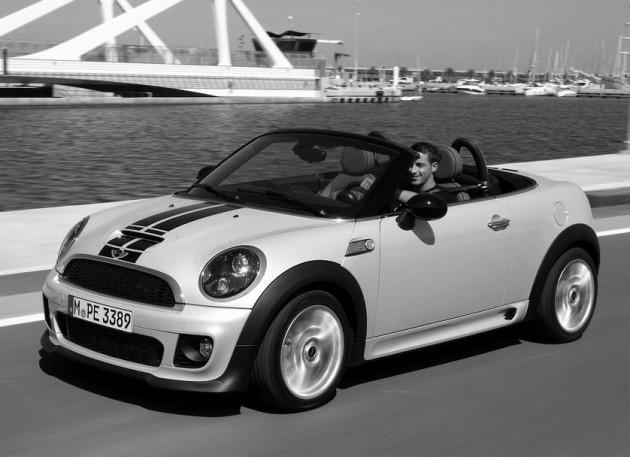car: (42, 123, 602, 413)
